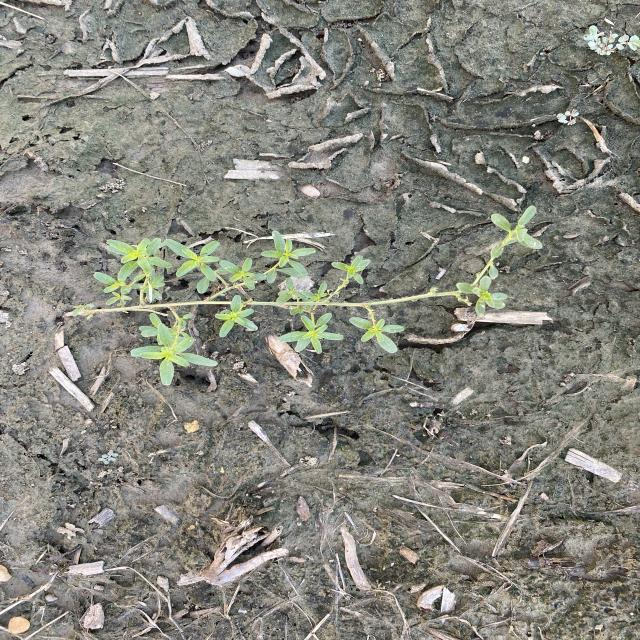Waterhemp: (65, 206, 545, 387)
